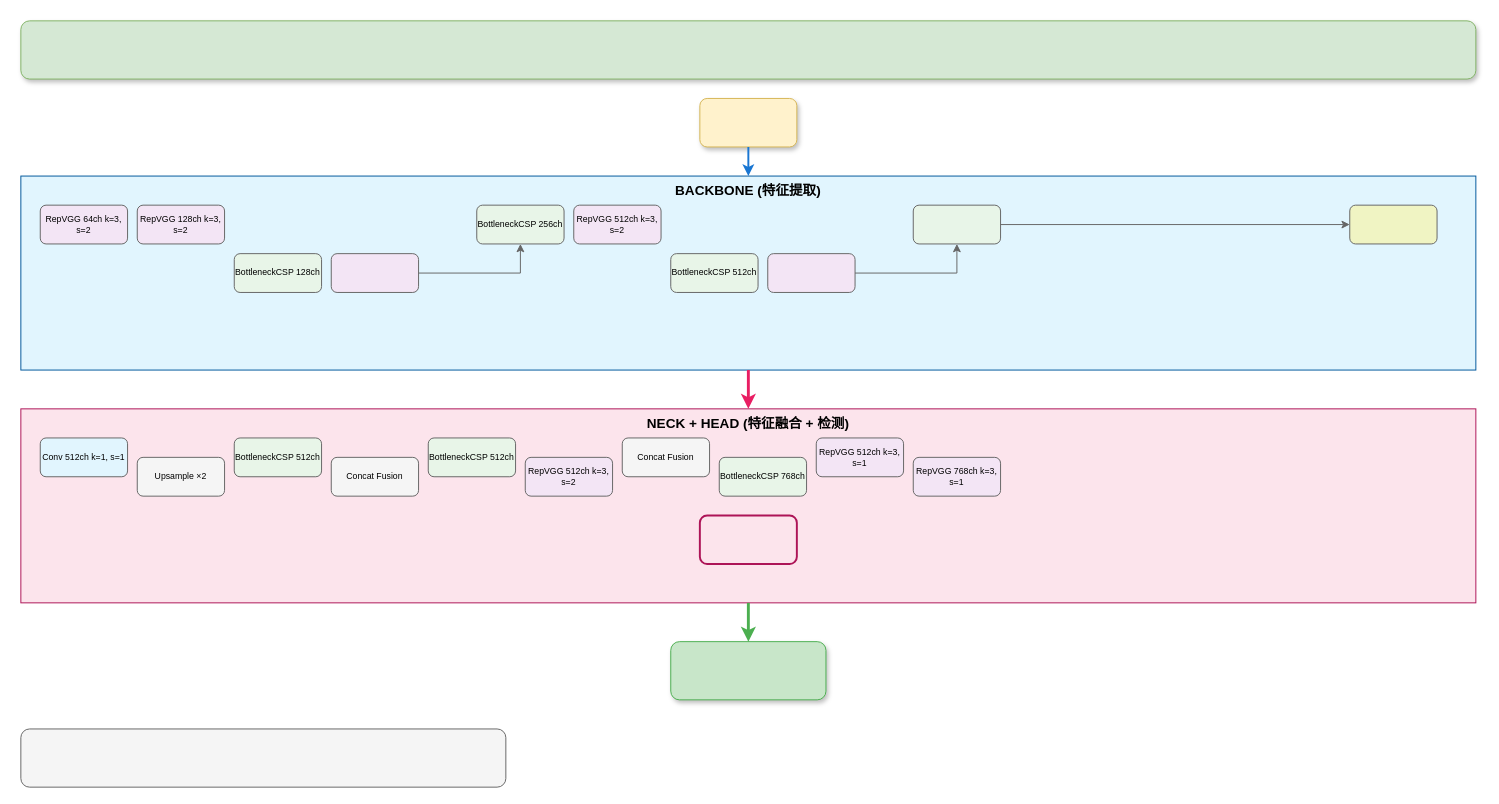
This 1499x804 diagram has some shape labels left out. Here are the shapes that lost their labels. From the top down, the centre of each, then its label:
At (x=749, y=51): "YOLOv4-RepVGG RepVGG卷积 + CSP backbone + IDetect检测头".
At (x=749, y=124): "Input Image 640×640×3".
At (x=956, y=224): "BottleneckCSP 1024ch".
At (x=1393, y=224): "SPPF 1024ch".
At (x=374, y=272): "RepVGG 256ch k=3, s=2".
At (x=811, y=272): "RepVGG 1024ch k=3, s=2".
At (x=747, y=539): "IDetect Classes: nc".
At (x=749, y=672): "Detection Results Bounding Boxes + Confidence Scores".
At (x=263, y=757): "模块图例 ■ 标准卷积 ■ RepVGG ■ CSP ■ RCS-OSA ■ 注意力".
